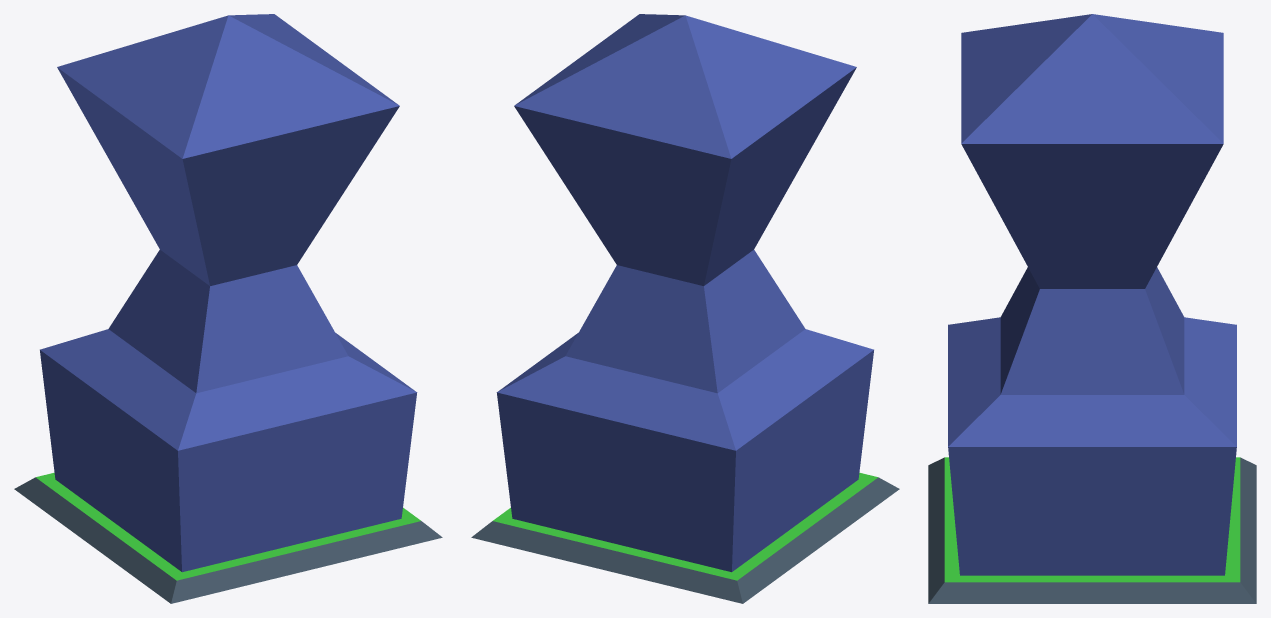
Rendered from Tower1.fbx.
3 renders of one model, left to right at view 1: azimuth 30°, elevation 25°; view 2: azimuth 150°, elevation 25°; view 3: azimuth 270°, elevation 25°, orthographic. The views are drawn at different scales.
Visible parts, largest first — view 1: Cube.001, Plane; view 2: Cube.001, Plane; view 3: Cube.001, Plane.
Part boxes in pixels (x1,y1,x2,y2): Cube.001: (40,14,417,572); Plane: (14,472,442,603); Cube.001: (496,14,873,572); Plane: (471,472,899,603); Cube.001: (948,14,1236,575); Plane: (928,457,1256,603).
Bounding box in the file's own units: 200 × 350 × 200.
